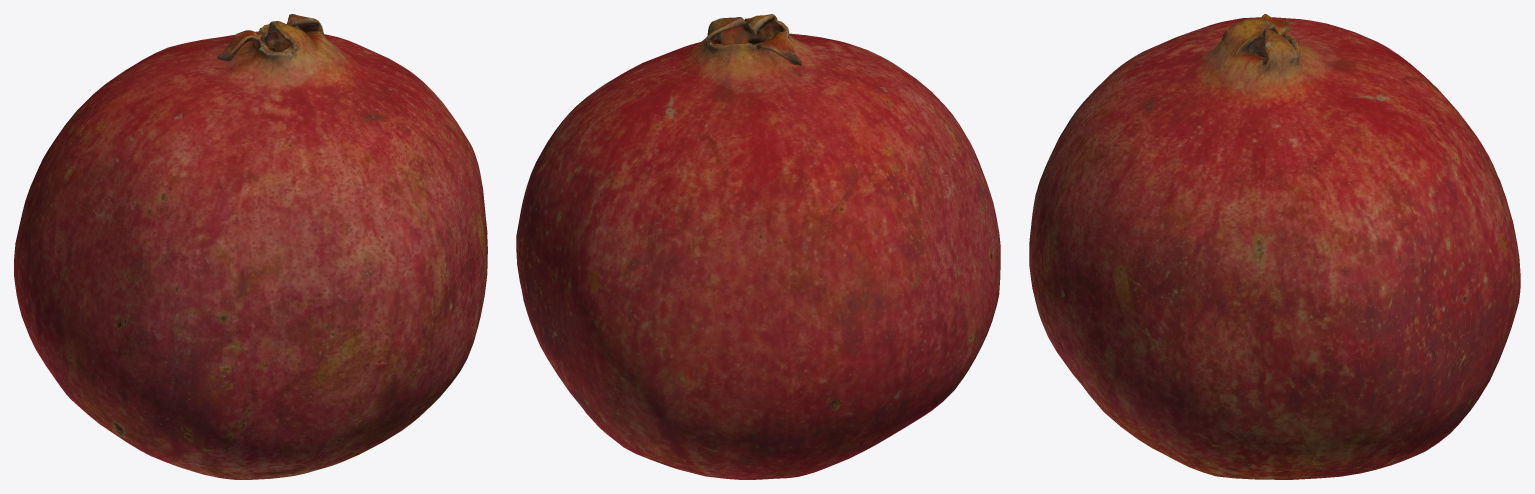
The model's file is food_pomegranate_01.glb.
3 renders of one model, left to right at view 1: azimuth 30°, elevation 25°; view 2: azimuth 150°, elevation 25°; view 3: azimuth 270°, elevation 25°, orthographic. The views are drawn at different scales.
Visible parts, largest first — view 1: food_pomegranate_01; view 2: food_pomegranate_01; view 3: food_pomegranate_01.
Boxes of the visible parts, <box> form: food_pomegranate_01: <box>14,14,487,479</box>; food_pomegranate_01: <box>516,14,1000,479</box>; food_pomegranate_01: <box>1029,14,1520,479</box>.
Bounding box in the file's own units: 0.1143 × 0.115 × 0.1154.
1 material, 1 textured.
